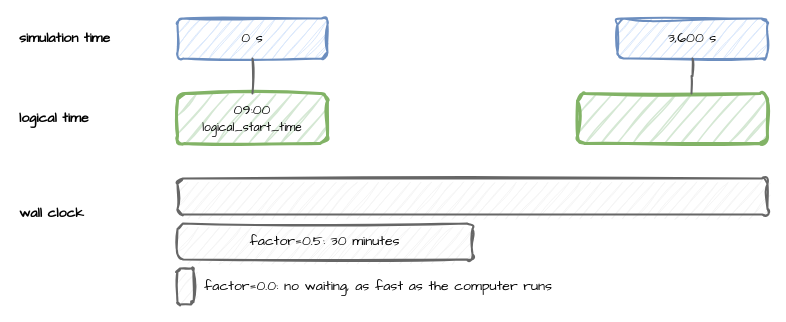
Image size: 786x322. Some labels were removed from this diagram. The box of each missing label's shape, as (x1, y1, x2, y2) in pixels:
10:00 logical_start_time + 3,600 s: (576, 92, 768, 144)
factor=1.0: 1 hour: (176, 177, 768, 215)
